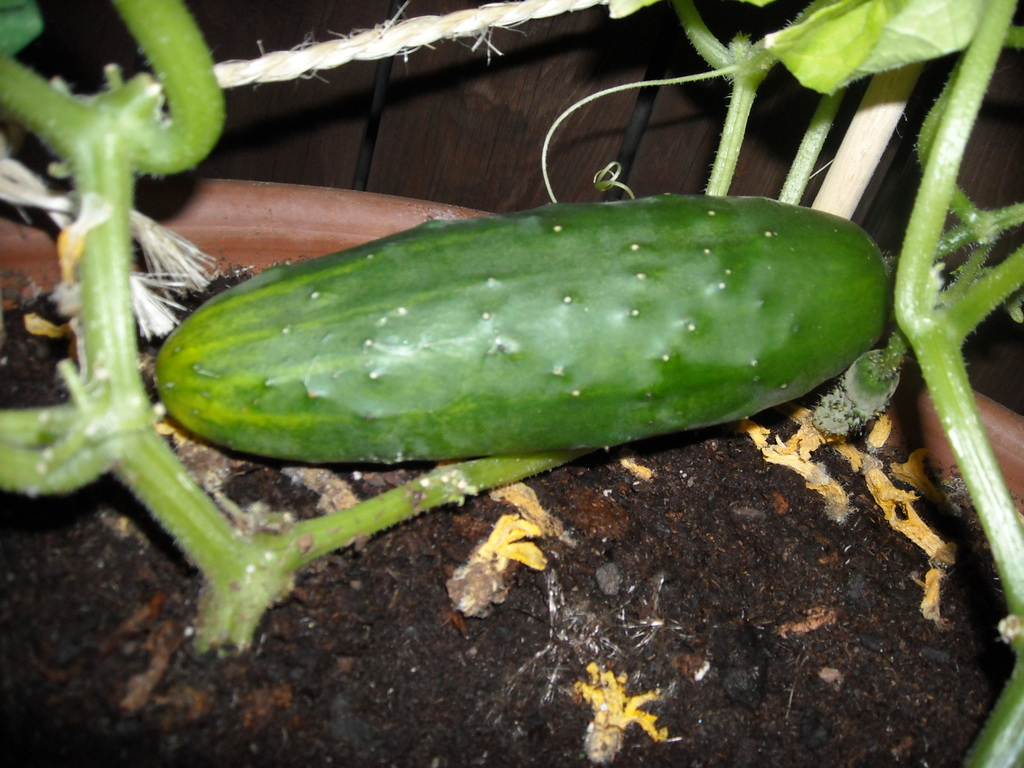cucumber: (155, 194, 891, 464)
